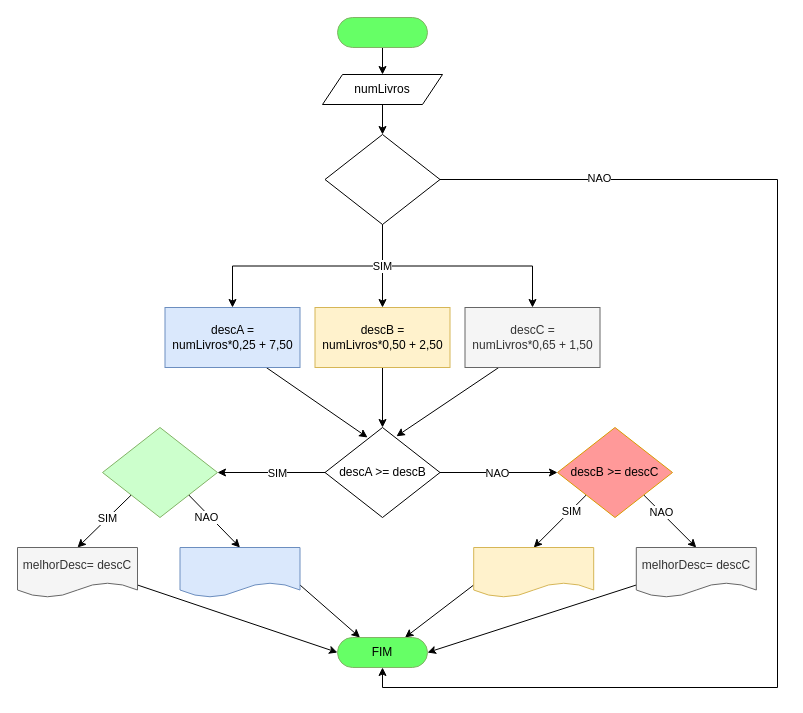
Some shapes in this 803 by 713 pixel diagram are drawn without their labels. The shapes that lost their labels are listed below. From the top down, each one's centre as x and y in pixels, then its label:
(x=382, y=32): INICIO
(x=382, y=179): numLivros >= 0
(x=160, y=472): descC >= descA
(x=239, y=572): melhorDesc= descA
(x=533, y=572): melhorDesc= descB
